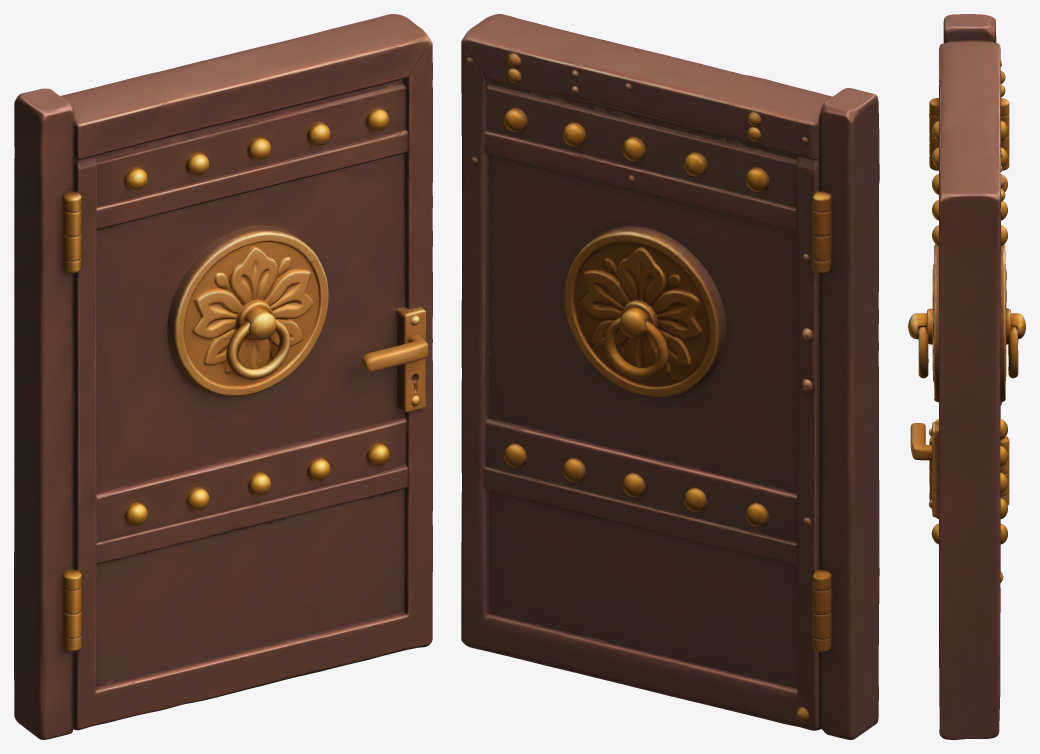
The model's file is outer-gate-door.glb.
The picture shows the model from 3 angles, left to right: view 1: azimuth 30°, elevation 25°; view 2: azimuth 150°, elevation 25°; view 3: azimuth 270°, elevation 25°; orthographic projection. The views are drawn at different scales.
Parts seen in each view (by area): view 1: tripo_node_00fc8bb0-eb1a-4ec5-8cfb-c237ebb3d8f7; view 2: tripo_node_00fc8bb0-eb1a-4ec5-8cfb-c237ebb3d8f7; view 3: tripo_node_00fc8bb0-eb1a-4ec5-8cfb-c237ebb3d8f7.
Boxes of the visible parts, x1,y1,x2,y2 form: tripo_node_00fc8bb0-eb1a-4ec5-8cfb-c237ebb3d8f7: (14,14,432,739); tripo_node_00fc8bb0-eb1a-4ec5-8cfb-c237ebb3d8f7: (461,14,879,739); tripo_node_00fc8bb0-eb1a-4ec5-8cfb-c237ebb3d8f7: (908,14,1025,739).
Size of the model in its own units: 0.6477 by 1 by 0.1904.
Materials: 1 (1 with a texture image).
